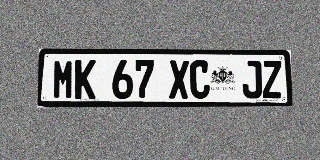6: (112, 60, 133, 99)
7: (134, 60, 154, 99)
C: (190, 60, 210, 99)
J: (242, 61, 262, 98)
K: (74, 60, 96, 99)
M: (52, 60, 74, 99)
X: (169, 60, 189, 99)
Z: (262, 61, 282, 98)
